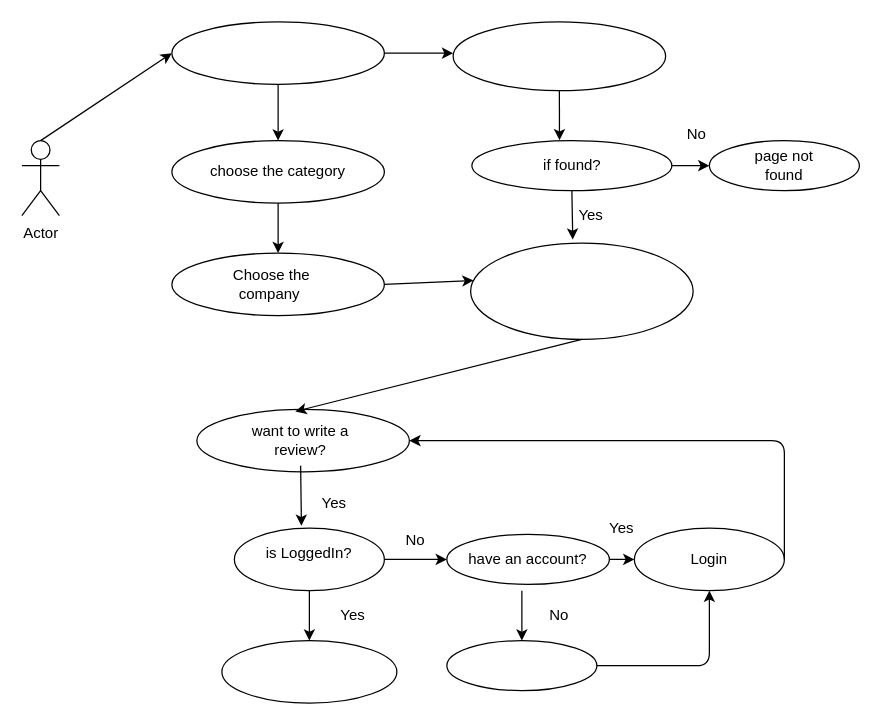
Image size: 881x725. Some labels were removed from this diagram. Here are the shapes that lost their labels. From the top down, the box of each, then its label:
(171, 21, 384, 84): Visit the website
(452, 21, 666, 91): search the company
(469, 242, 693, 339): Read company info, news, reviews and careers
(221, 639, 397, 703): Write review and then post it
(446, 639, 597, 691): Sign In
